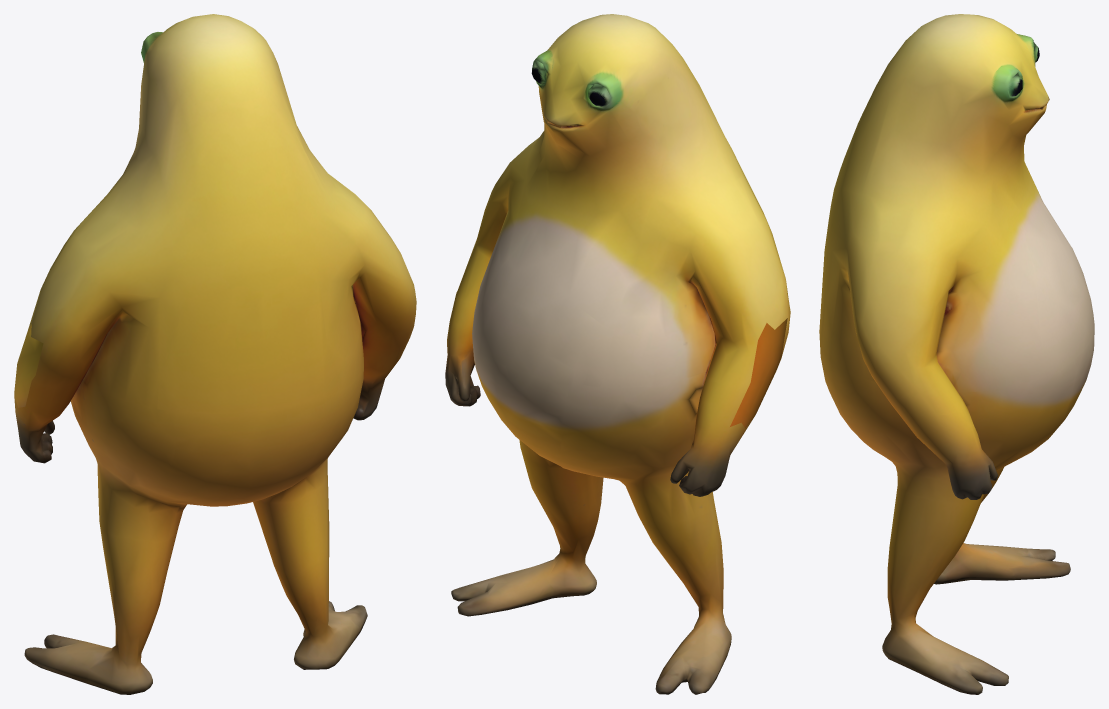
The model's file is frog.glb.
3 views of the same model, side by side, from view 1: azimuth 30°, elevation 25°; view 2: azimuth 150°, elevation 25°; view 3: azimuth 270°, elevation 25° (orthographic). The views are drawn at different scales.
Visible parts, largest first — view 1: naiwa; view 2: naiwa; view 3: naiwa.
Boxes of the visible parts, bbox=[...] form: naiwa: bbox=[14, 14, 416, 694]; naiwa: bbox=[445, 14, 790, 694]; naiwa: bbox=[819, 14, 1094, 694].
Bounding box in the file's own units: 0.348 × 0.6025 × 0.2493.
Materials: 1 (1 with a texture image).
